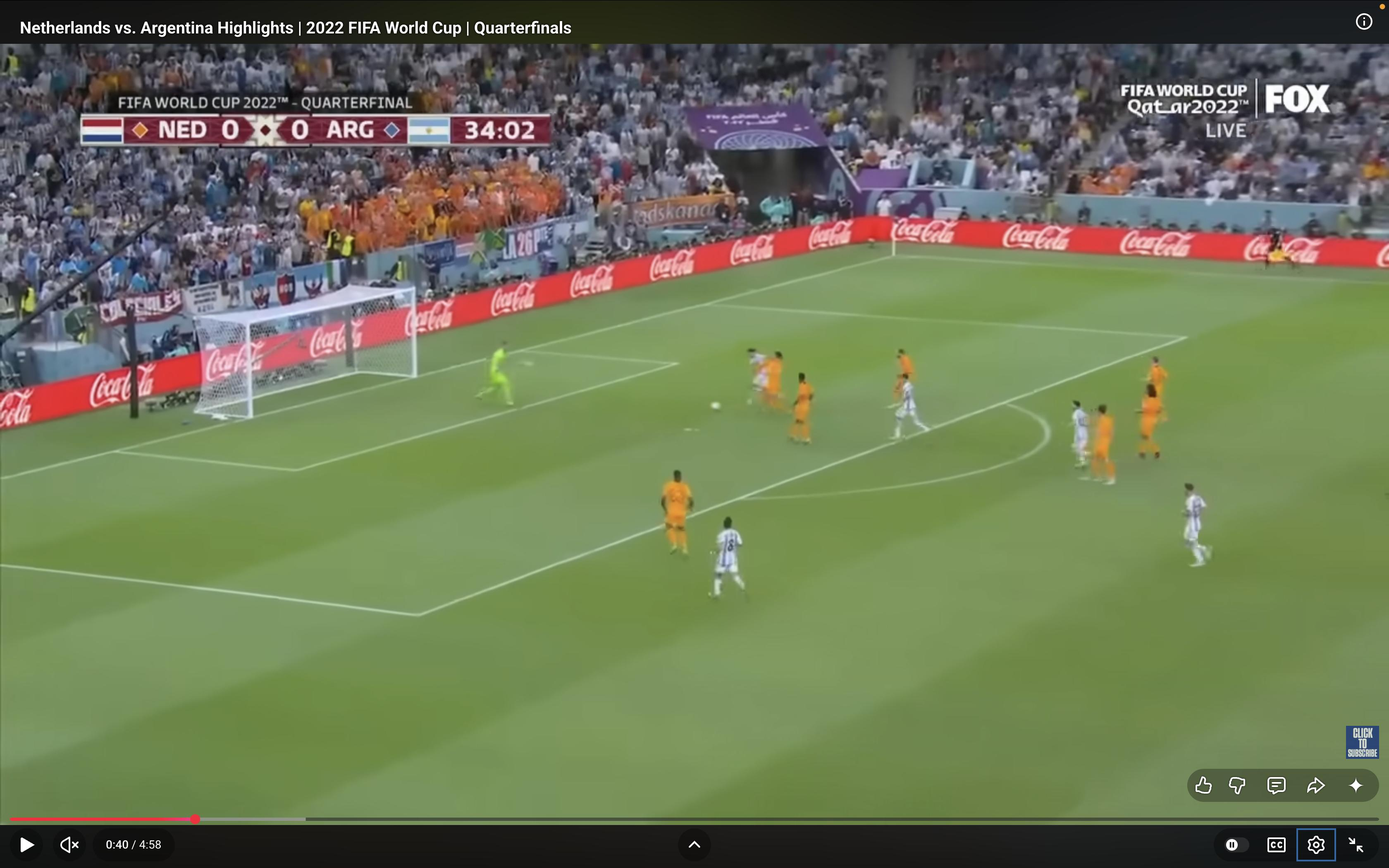ball: (711, 402, 721, 411)
goalkeeper: (476, 341, 514, 406)
player: (710, 517, 746, 600), (660, 470, 693, 556), (891, 372, 930, 440), (1184, 483, 1212, 567), (1137, 383, 1164, 460), (1091, 404, 1115, 484), (788, 372, 814, 445), (889, 348, 914, 408), (760, 351, 783, 412), (1072, 400, 1089, 469), (747, 348, 766, 405), (1144, 356, 1169, 399)
referee: (1264, 229, 1297, 269)
